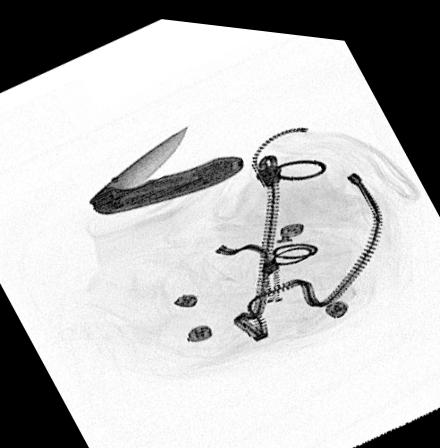Knife: (85, 118, 248, 213)
